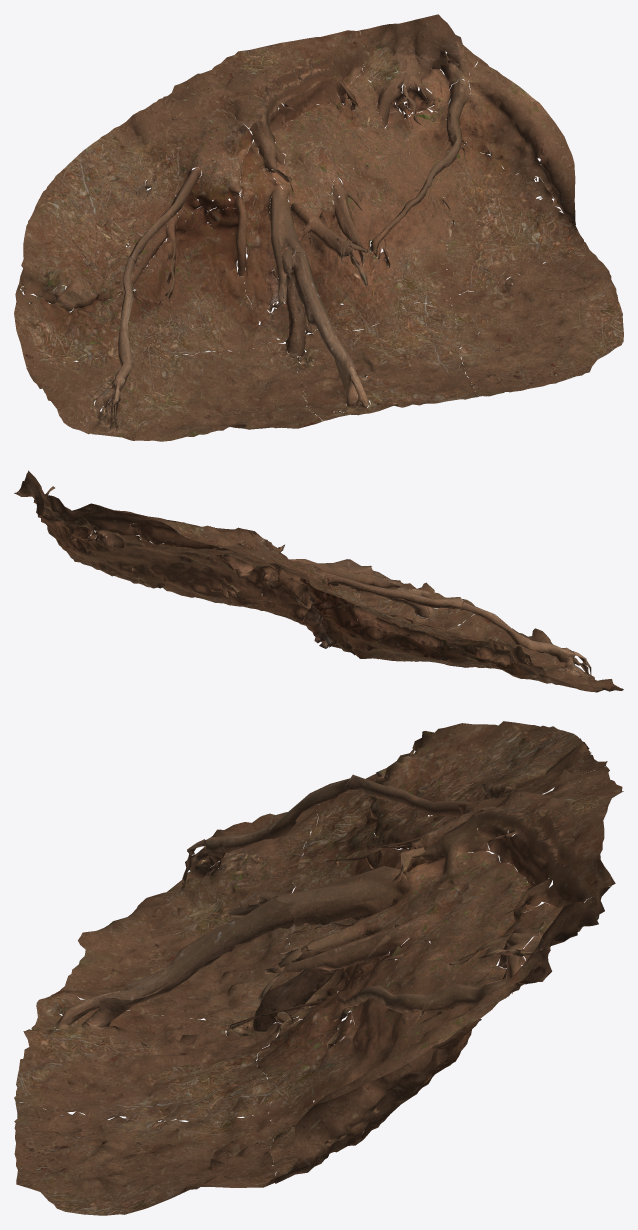
Rendered from root_cluster_01.fbx.
The picture shows the model from 3 angles, top to bottom: view 1: azimuth 30°, elevation 25°; view 2: azimuth 150°, elevation 25°; view 3: azimuth 270°, elevation 25°; orthographic projection. The views are drawn at different scales.
Parts seen in each view (by area): view 1: root_cluster_01; view 2: root_cluster_01; view 3: root_cluster_01.
Part boxes in pixels (<box>): root_cluster_01: <box>14,14,623,441</box>; root_cluster_01: <box>14,470,623,692</box>; root_cluster_01: <box>14,721,623,1215</box>.
Size of the model in its own units: 4.12 by 1.51 by 2.69.
Materials: 1 (1 with a texture image).
